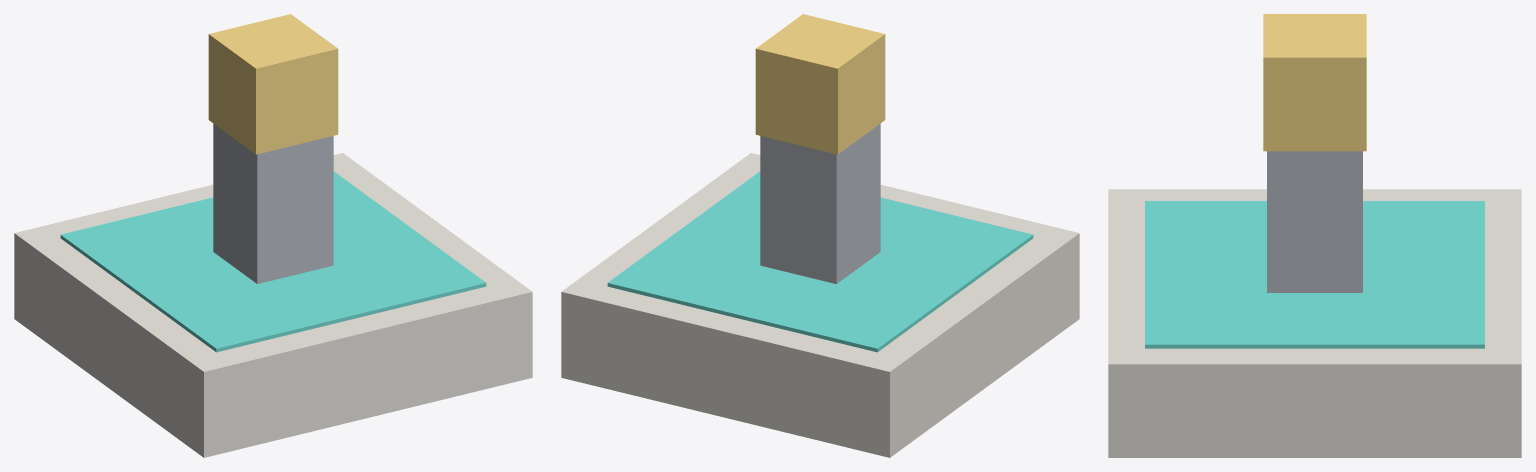
File: prop-fountain.glb
3 renders of one model, left to right at view 1: azimuth 30°, elevation 25°; view 2: azimuth 150°, elevation 25°; view 3: azimuth 270°, elevation 25°, orthographic. The views are drawn at different scales.
Parts seen in each view (by area): view 1: prop-fountain; view 2: prop-fountain; view 3: prop-fountain.
Part boxes in pixels (x1,y1,x2,y2): prop-fountain: (14, 14, 532, 457); prop-fountain: (561, 14, 1079, 457); prop-fountain: (1108, 14, 1521, 457).
Size of the model in its own units: 2.8 by 2.5 by 2.8.
